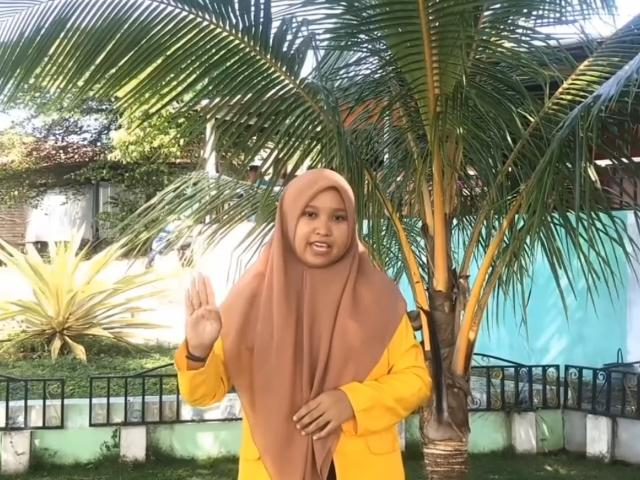B: (185, 270, 223, 356)
